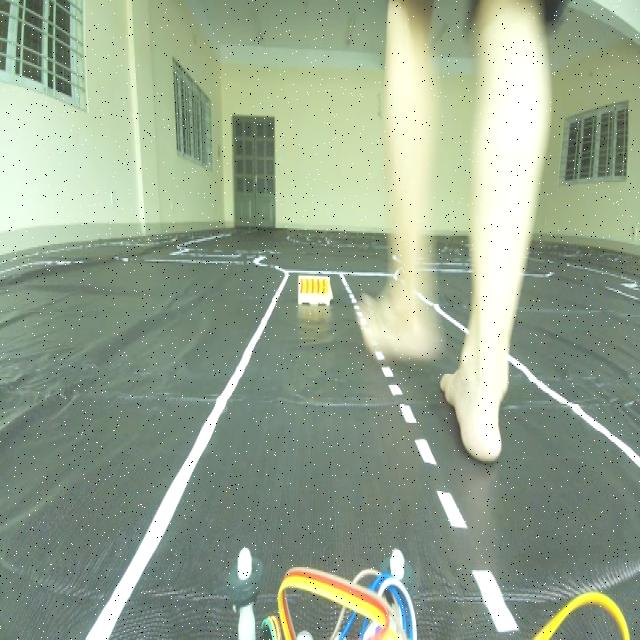roadblock: (290, 263, 336, 317)
